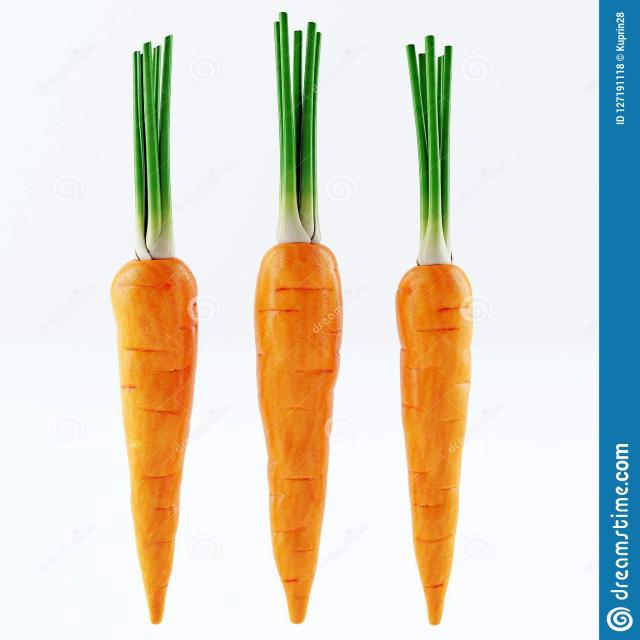Carrot: (105, 33, 204, 630), (260, 9, 335, 626), (396, 42, 462, 622)
